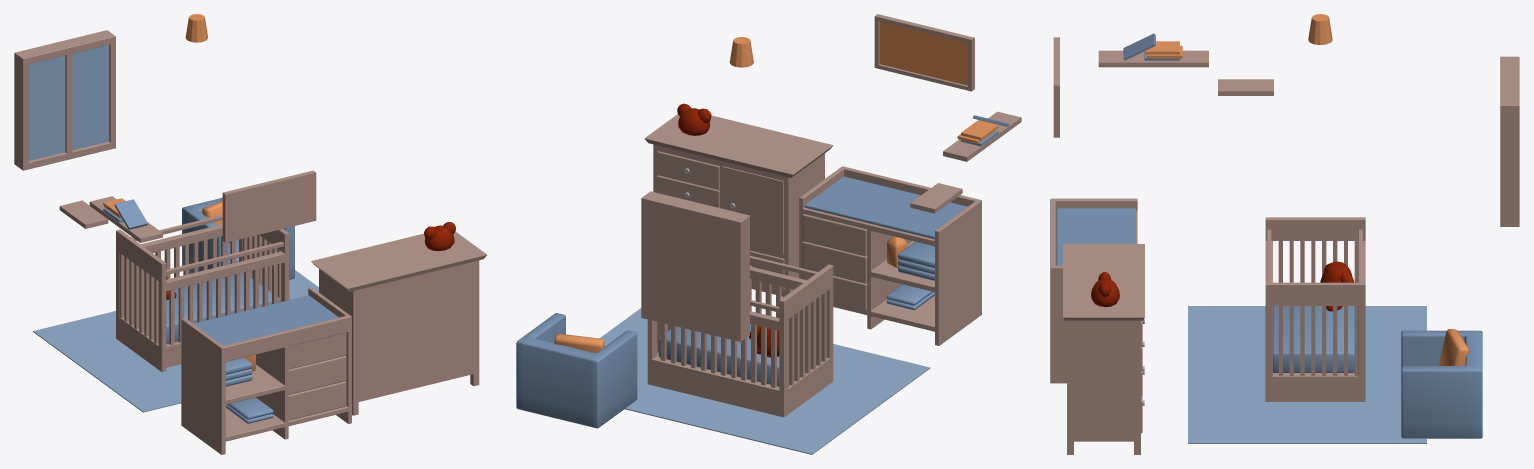
File: 1 - children.fbx
The picture shows the model from 3 angles, left to right: view 1: azimuth 30°, elevation 25°; view 2: azimuth 150°, elevation 25°; view 3: azimuth 270°, elevation 25°; orthographic projection. The views are drawn at different scales.
Parts seen in each view (by area): view 1: stolik, shell, bed, window, carpet, art, shelf, sofa, bear head, lamp; view 2: stolik, bed, shell, window, carpet, sofa, art, shelf, bear head, lamp; view 3: carpet, bed, shell, sofa, stolik, shelf, window, bear head, art, lamp, bear body.
Boxes of the visible parts, x1,y1,x2,y2 form: stolik: (181, 287, 351, 454); shell: (311, 231, 486, 415); bed: (116, 215, 289, 371); window: (14, 30, 115, 170); carpet: (33, 270, 318, 412); art: (222, 170, 316, 242); shelf: (59, 196, 162, 242); sofa: (182, 197, 294, 279); bear head: (424, 222, 455, 251); lamp: (185, 14, 208, 42); stolik: (799, 166, 981, 345); bed: (647, 255, 833, 417); shell: (644, 114, 833, 297); window: (641, 191, 749, 341); carpet: (599, 308, 930, 454); sofa: (516, 313, 637, 428); art: (874, 14, 974, 91); shelf: (910, 111, 1021, 213); bear head: (677, 103, 711, 135); lamp: (729, 37, 753, 67); carpet: (1188, 306, 1426, 443); bed: (1265, 217, 1365, 401); shell: (1063, 244, 1144, 454); sofa: (1401, 329, 1482, 438); stolik: (1050, 198, 1137, 383); shelf: (1098, 33, 1273, 95); window: (1500, 56, 1519, 226); bear head: (1091, 272, 1119, 307); art: (1053, 37, 1059, 137); lamp: (1308, 14, 1332, 44); bear body: (1320, 261, 1354, 311).
Bounding box in the file's own units: 2472 × 2305 × 2801.
